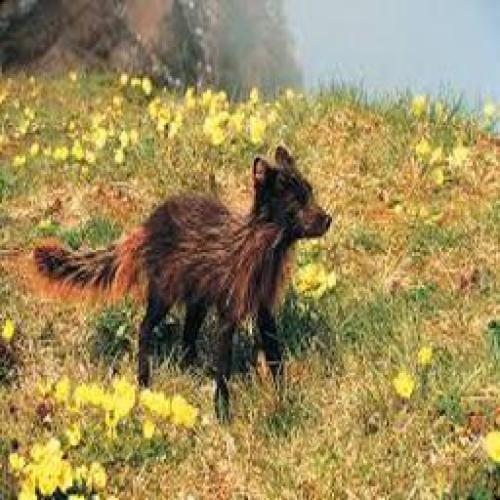arctic_fox-endangered: (42, 146, 334, 409)
